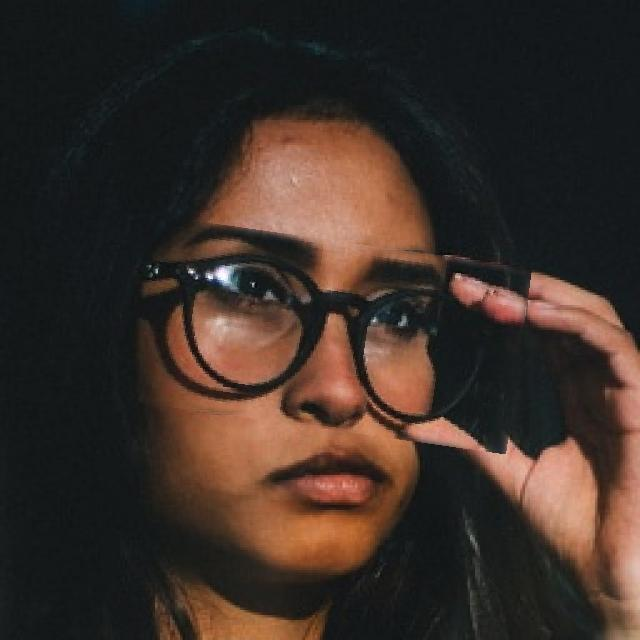glasses: (115, 227, 526, 441)
